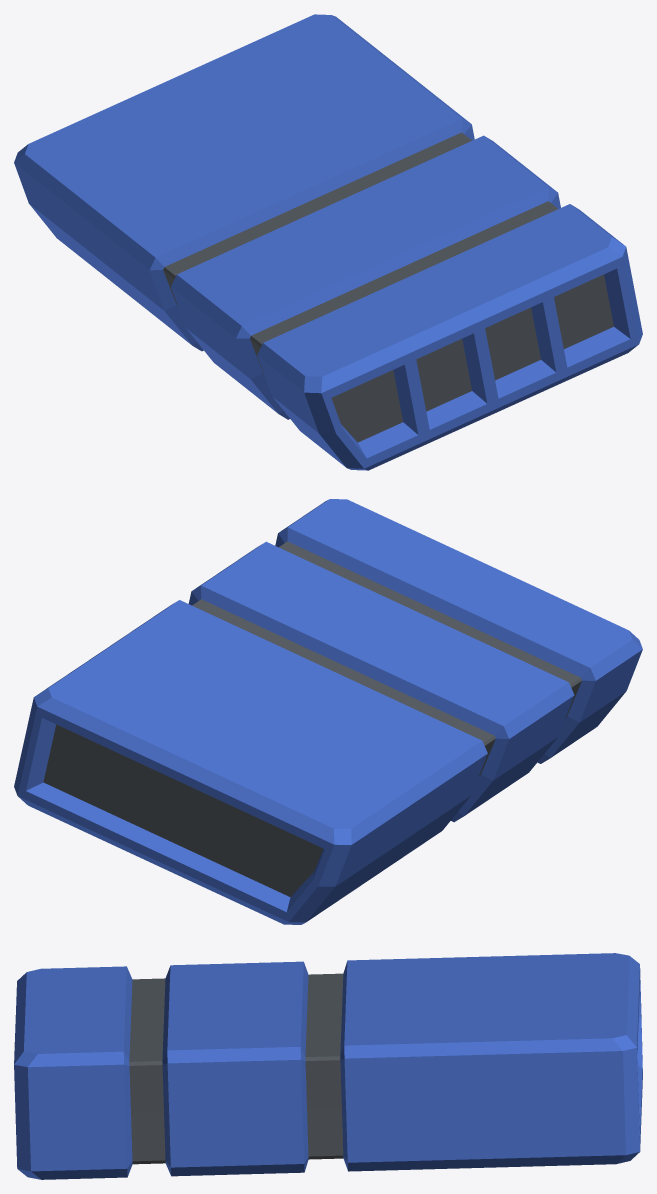
The model's file is Dropship_01_Artillery_Left_Blue.fbx.
3 views of the same model, one above another, from view 1: azimuth 30°, elevation 25°; view 2: azimuth 150°, elevation 25°; view 3: azimuth 270°, elevation 25° (orthographic). The views are drawn at different scales.
Visible parts, largest first — view 1: Dropship_01_Artillery_Left_Blue; view 2: Dropship_01_Artillery_Left_Blue; view 3: Dropship_01_Artillery_Left_Blue.
Part boxes in pixels (left/top/right/bottom): Dropship_01_Artillery_Left_Blue: left=14, top=14, right=642, bottom=470; Dropship_01_Artillery_Left_Blue: left=14, top=499, right=642, bottom=924; Dropship_01_Artillery_Left_Blue: left=14, top=953, right=642, bottom=1179.
Size of the model in its own units: 362 by 192 by 568.
Materials: 1 (1 with a texture image).
